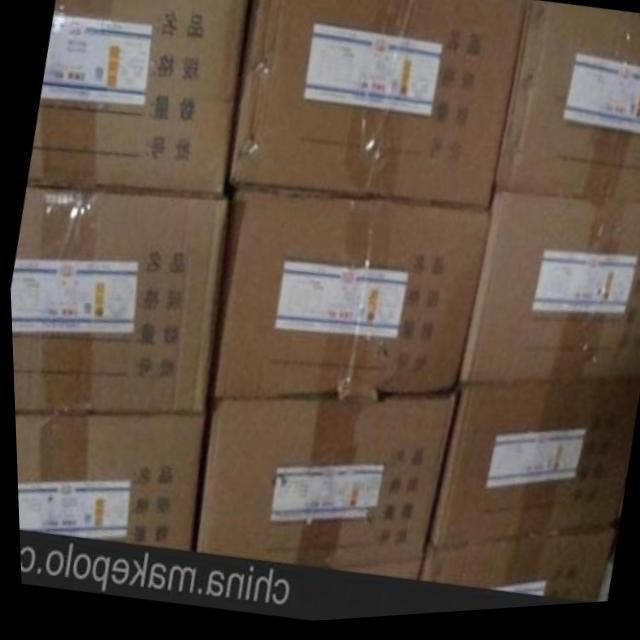box: (226, 0, 527, 220), (211, 191, 487, 405), (8, 183, 226, 416), (190, 396, 454, 576), (25, 0, 254, 198), (422, 386, 638, 554), (453, 198, 640, 391), (487, 10, 640, 217), (12, 413, 204, 552), (412, 540, 605, 610), (335, 559, 421, 586)
